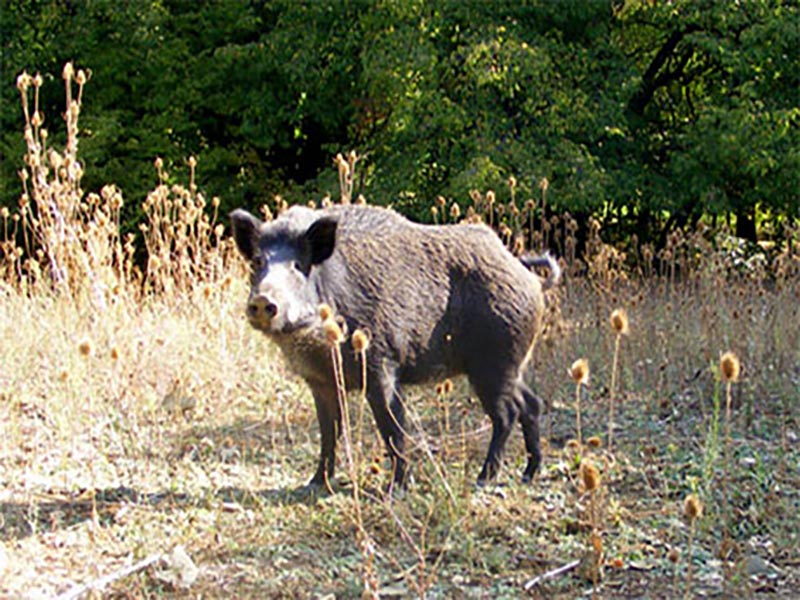cinghiale: (216, 190, 583, 496)
